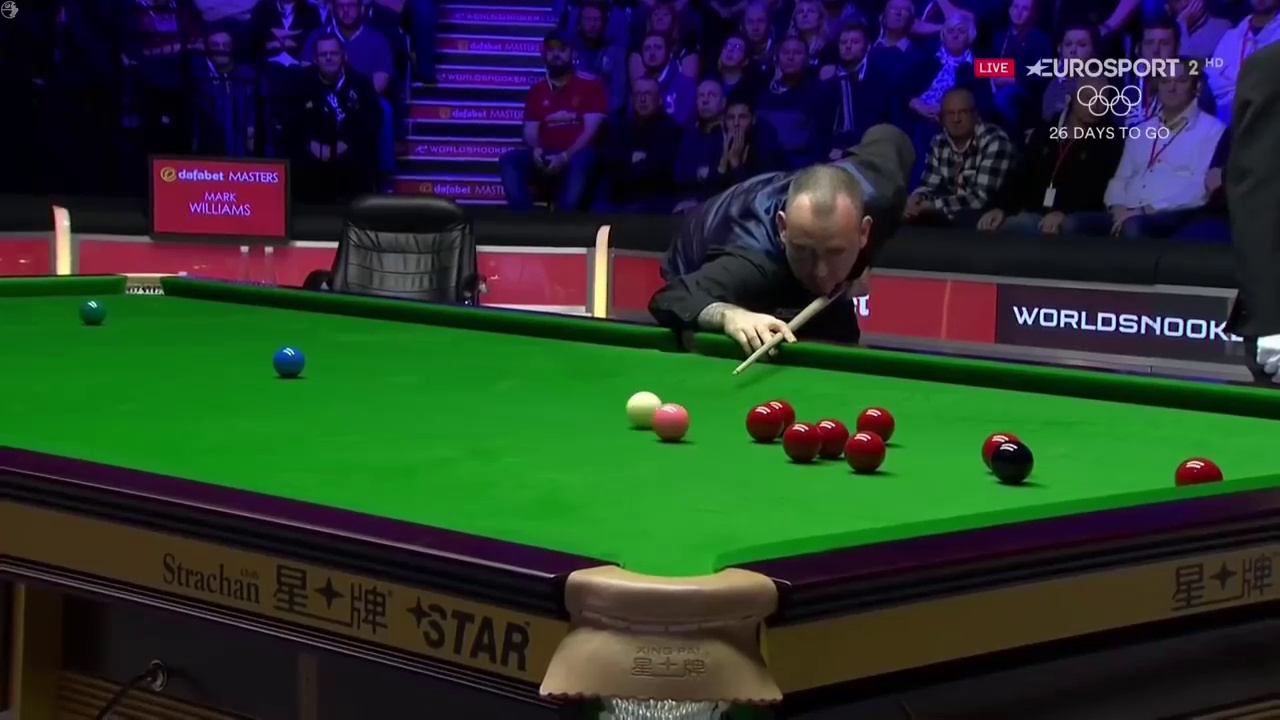black: (992, 445, 1036, 484)
blue: (275, 348, 305, 379)
green: (80, 300, 105, 325)
pink: (656, 402, 688, 438)
red: (845, 432, 883, 473), (785, 427, 817, 462), (749, 408, 781, 442)
white: (626, 391, 655, 428)
